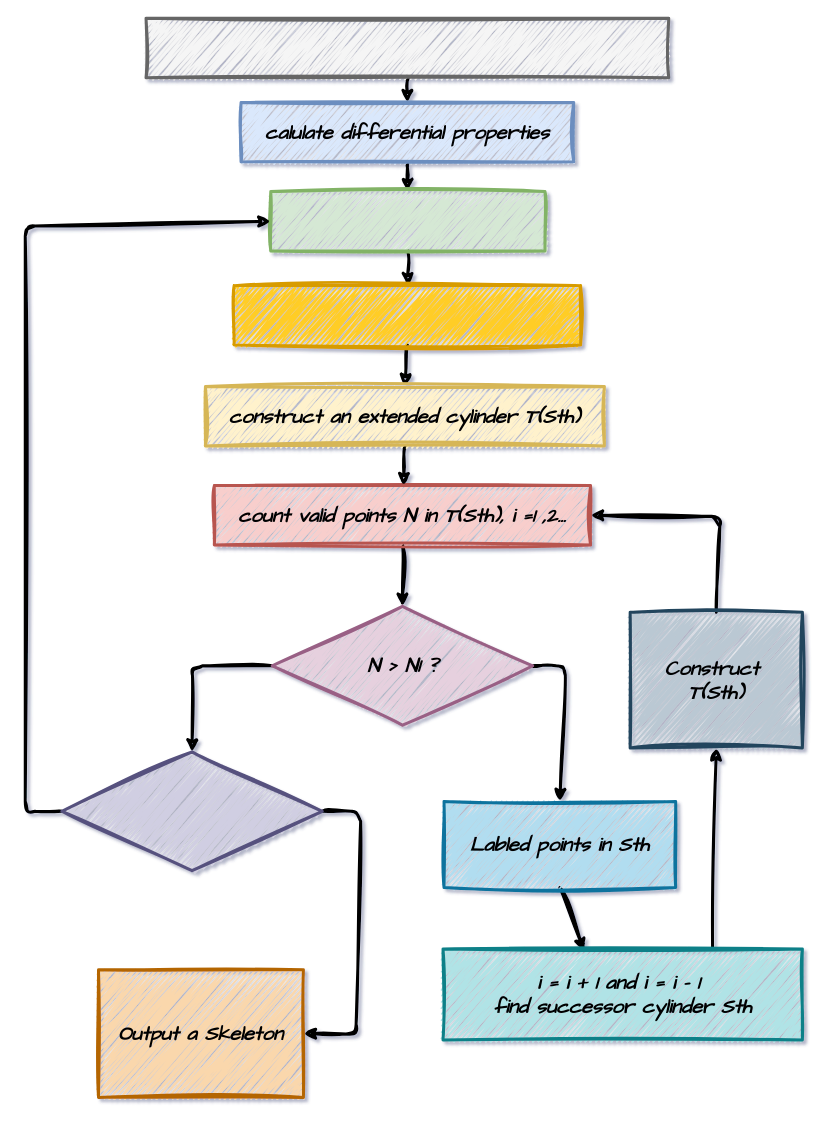
This 827x1122 diagram has some shape labels left out. The box of each missing label's shape, as (x1, y1, x2, y2) in pixels:
choose any unlabled point q: (269, 190, 546, 252)
construct and initial cylinder Sth: (232, 284, 582, 346)
cylinder number >N2 ?: (60, 750, 323, 872)
input tree scan point, & all points are unlabled: (144, 16, 670, 79)
